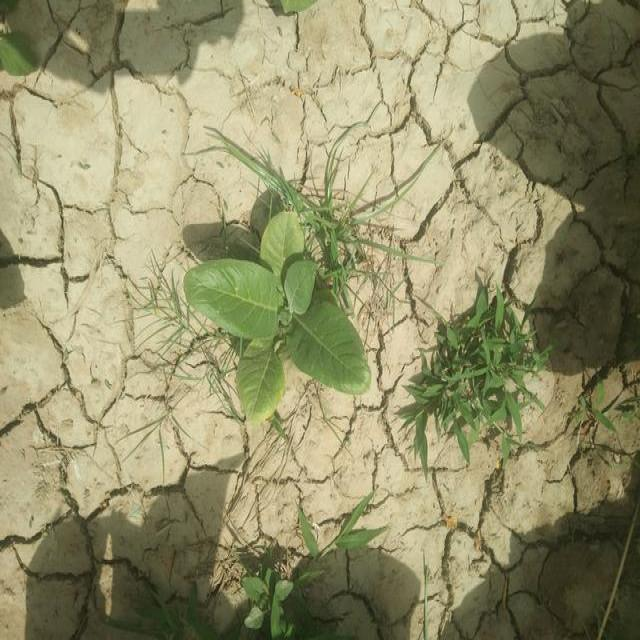crop: (185, 208, 371, 413)
